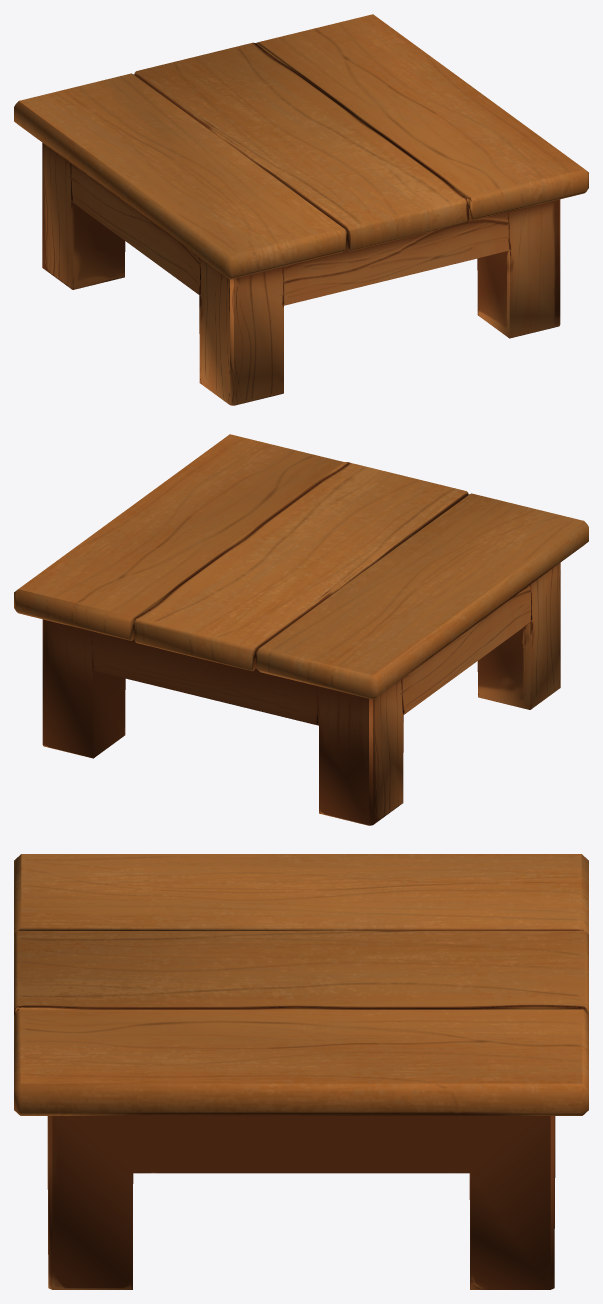
File: counter.fbx
3 views of the same model, one above another, from view 1: azimuth 30°, elevation 25°; view 2: azimuth 150°, elevation 25°; view 3: azimuth 270°, elevation 25° (orthographic). The views are drawn at different scales.
Parts seen in each view (by area): view 1: counter.001; view 2: counter.001; view 3: counter.001.
Boxes of the visible parts, bbox=[...] form: counter.001: bbox=[14, 14, 588, 405]; counter.001: bbox=[14, 434, 588, 825]; counter.001: bbox=[14, 854, 588, 1289].
Bounding box in the file's own units: 19588 × 8306 × 20211.
